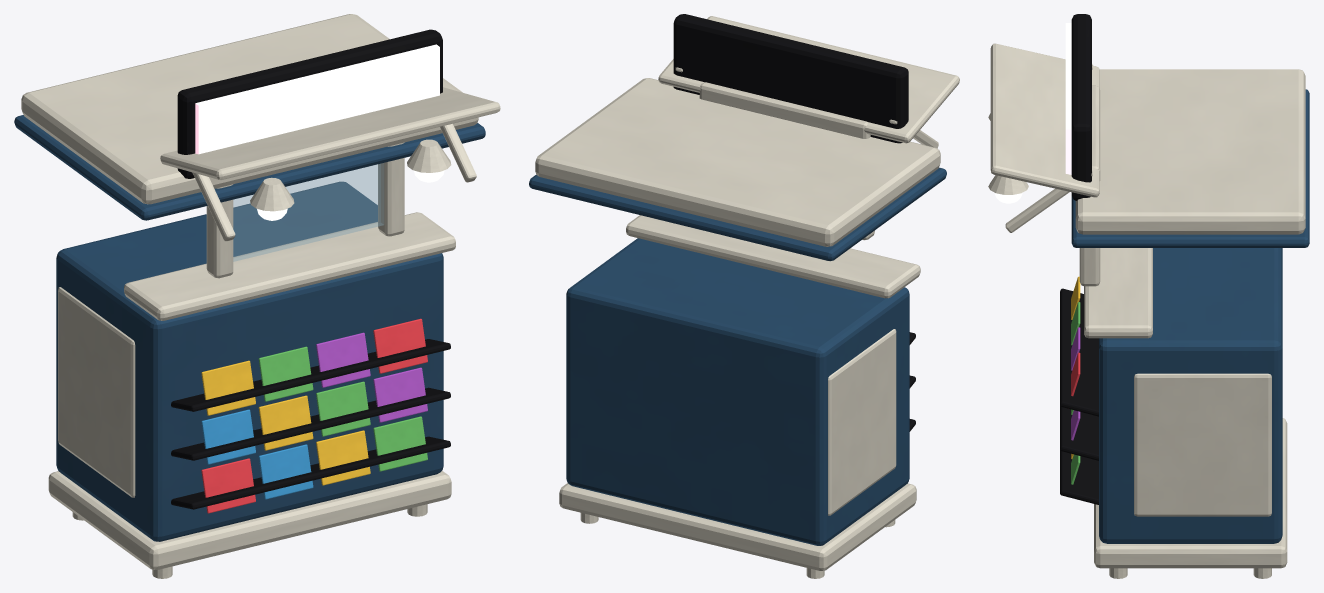
The model's file is prop_newsstand.glb.
3 views of the same model, side by side, from view 1: azimuth 30°, elevation 25°; view 2: azimuth 150°, elevation 25°; view 3: azimuth 270°, elevation 25° (orthographic). The views are drawn at different scales.
Parts seen in each view (by area): view 1: prop_newsstand_cabinet, prop_newsstand_roof, prop_newsstand_counter, prop_newsstand_sign_face, prop_newsstand_side_panel_l, prop_newsstand_plinth, prop_newsstand_awning, prop_newsstand_hatch_glass, prop_newsstand_fascia, prop_newsstand_sign_box, prop_newsstand_shelf_0, prop_newsstand_shelf_1 (+19 smaller); view 2: prop_newsstand_cabinet, prop_newsstand_roof, prop_newsstand_sign_box, prop_newsstand_side_panel_l, prop_newsstand_plinth, prop_newsstand_counter, prop_newsstand_fascia, prop_newsstand_awning, prop_newsstand_hatch_head; view 3: prop_newsstand_roof, prop_newsstand_cabinet, prop_newsstand_side_panel_r, prop_newsstand_awning, prop_newsstand_plinth, prop_newsstand_counter, prop_newsstand_fascia, prop_newsstand_sign_box, prop_newsstand_shelf_2, prop_newsstand_shelf_0, prop_newsstand_shelf_1, prop_newsstand_sign_face (+4 smaller).
Part boxes in pixels (box(x1,y1,x2,y2)): prop_newsstand_cabinet: box(56, 181, 443, 541); prop_newsstand_roof: box(21, 14, 478, 204); prop_newsstand_counter: box(124, 212, 455, 320); prop_newsstand_sign_face: box(195, 44, 439, 154); prop_newsstand_side_panel_l: box(58, 287, 135, 497); prop_newsstand_plinth: box(48, 470, 451, 569); prop_newsstand_awning: box(160, 87, 500, 179); prop_newsstand_hatch_glass: box(233, 163, 383, 261); prop_newsstand_fascia: box(14, 115, 485, 220); prop_newsstand_sign_box: box(177, 29, 442, 178); prop_newsstand_shelf_0: box(171, 436, 450, 509); prop_newsstand_shelf_1: box(171, 387, 450, 460); prop_newsstand_cabinet: box(566, 238, 909, 545); prop_newsstand_roof: box(535, 78, 940, 246); prop_newsstand_sign_box: box(673, 14, 908, 143); prop_newsstand_side_panel_l: box(828, 329, 896, 515); prop_newsstand_plinth: box(559, 483, 916, 570); prop_newsstand_counter: box(626, 215, 920, 298); prop_newsstand_fascia: box(529, 167, 946, 261); prop_newsstand_awning: box(658, 16, 959, 143); prop_newsstand_hatch_head: box(699, 82, 870, 138); prop_newsstand_roof: box(1075, 69, 1305, 234); prop_newsstand_cabinet: box(1099, 248, 1282, 543); prop_newsstand_side_panel_r: box(1134, 373, 1271, 516); prop_newsstand_awning: box(990, 43, 1099, 197); prop_newsstand_plinth: box(1094, 418, 1287, 568); prop_newsstand_counter: box(1084, 248, 1152, 338); prop_newsstand_fascia: box(1071, 89, 1309, 247); prop_newsstand_sign_box: box(1071, 14, 1091, 200); prop_newsstand_shelf_2: box(1060, 288, 1098, 416); prop_newsstand_shelf_0: box(1060, 450, 1098, 504); prop_newsstand_shelf_1: box(1060, 405, 1098, 460); prop_newsstand_sign_face: box(1065, 23, 1071, 192).
Size of the model in its own units: 1.77 by 2.44 by 1.58.
11 materials, 9 textured.
